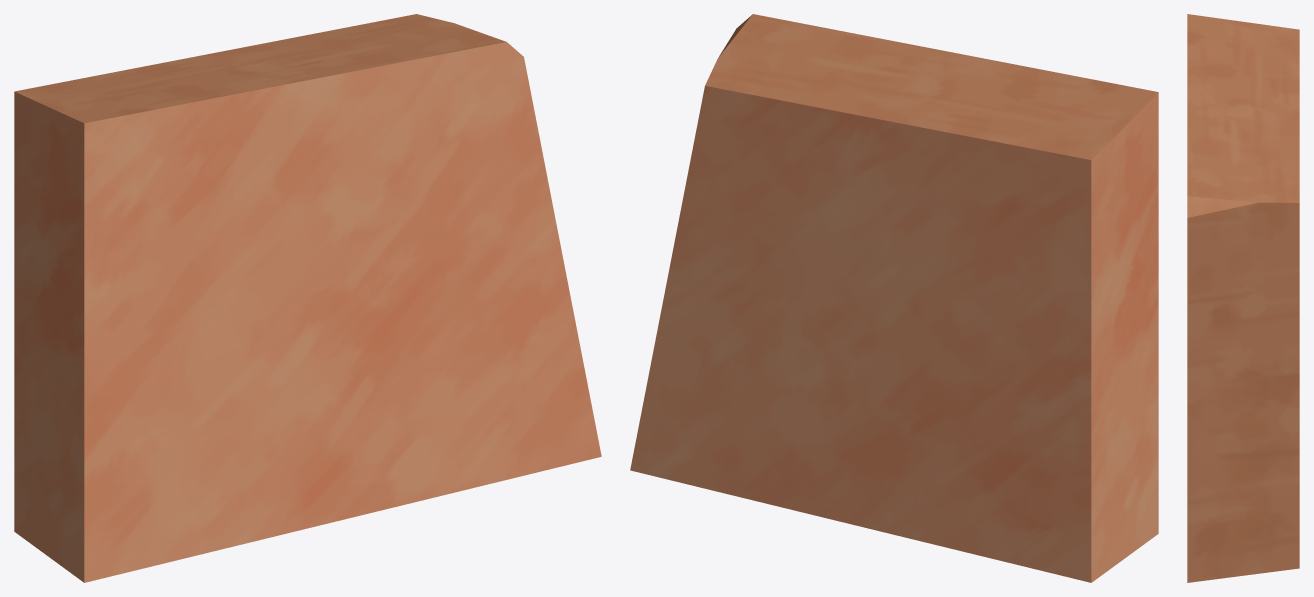
Rendered from wall_upper_s03.fbx.
3 views of the same model, side by side, from view 1: azimuth 30°, elevation 25°; view 2: azimuth 150°, elevation 25°; view 3: azimuth 270°, elevation 25° (orthographic). The views are drawn at different scales.
Parts seen in each view (by area): view 1: wall_upper_s03; view 2: wall_upper_s03; view 3: wall_upper_s03.
Boxes of the visible parts, box(x1,y1,x2,y2) form: wall_upper_s03: box(14, 14, 601, 582); wall_upper_s03: box(630, 14, 1158, 582); wall_upper_s03: box(1187, 14, 1299, 582).
Size of the model in its own units: 4.26 by 3.62 by 1.
